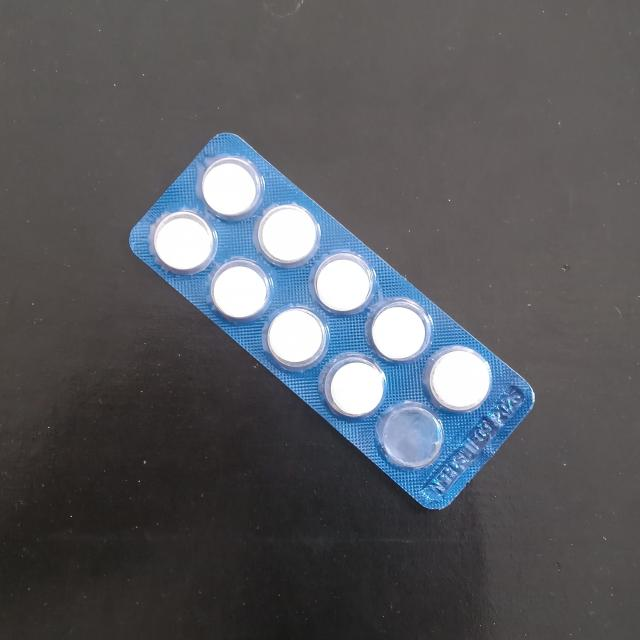defect: (377, 405, 444, 468)
